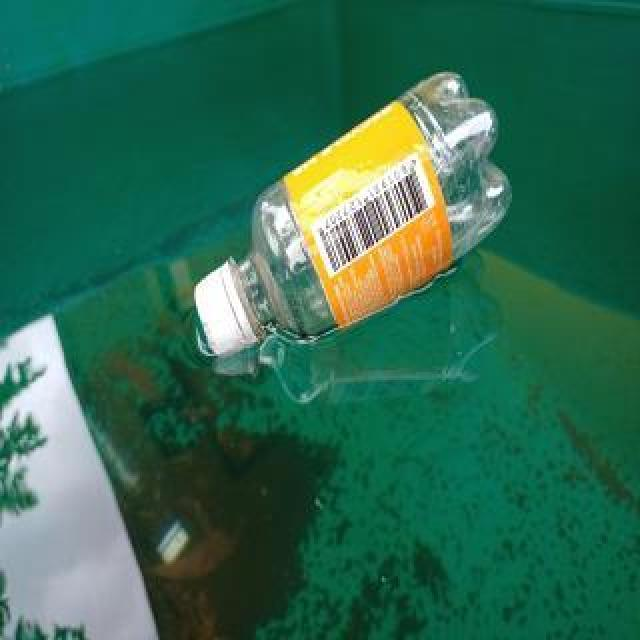bottle: (190, 64, 516, 366)
